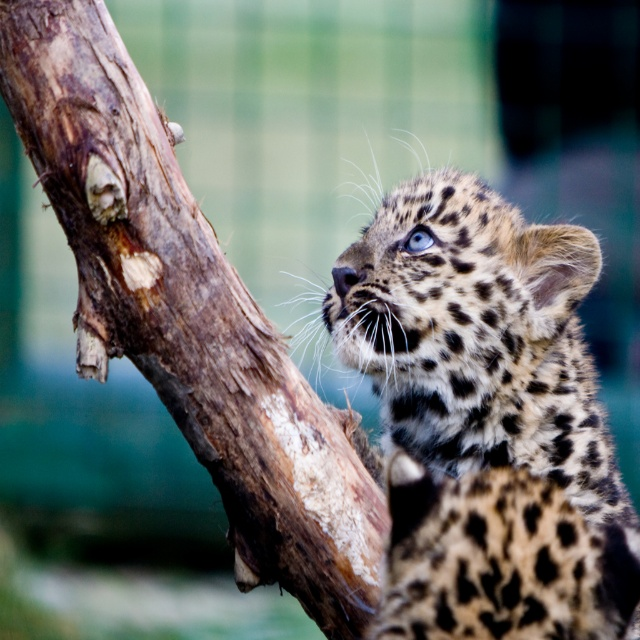Jaguar: (269, 122, 640, 640)
